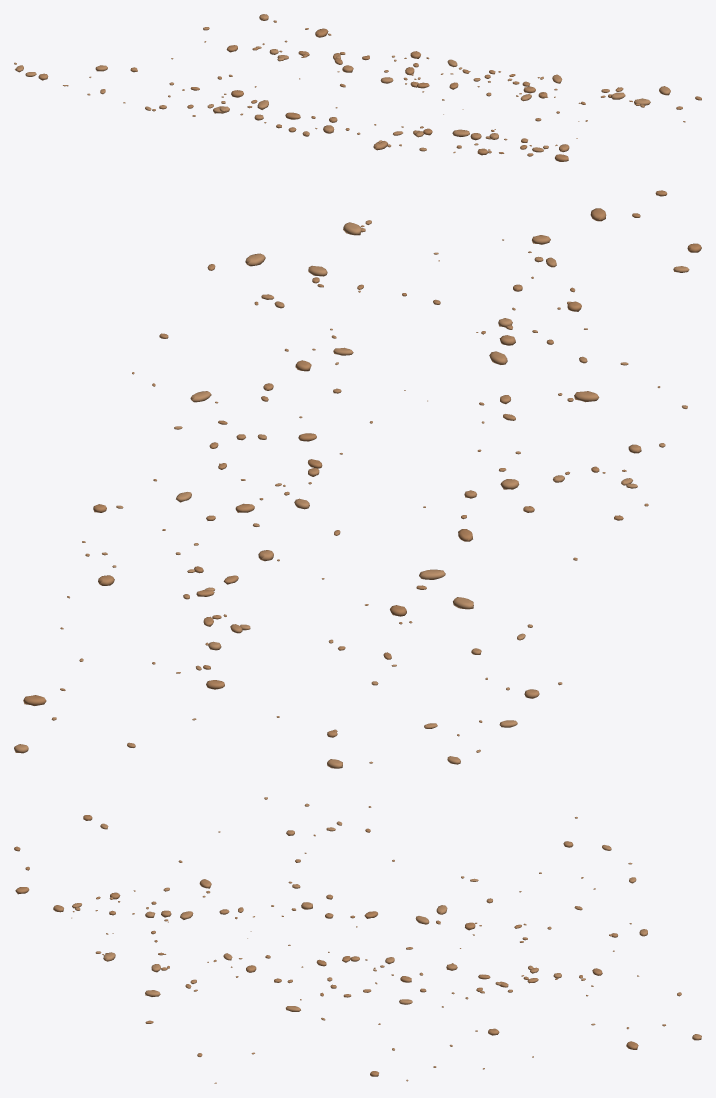
Rendered from terrain-094.glb.
The picture shows the model from 3 angles, top to bottom: view 1: azimuth 30°, elevation 25°; view 2: azimuth 150°, elevation 25°; view 3: azimuth 270°, elevation 25°; orthographic projection. The views are drawn at different scales.
Parts seen in each view (by area): view 1: terrain-094; view 2: terrain-094; view 3: terrain-094.
Boxes of the visible parts, x1,y1,x2,y2 form: terrain-094: [14, 14, 701, 161]; terrain-094: [14, 190, 701, 768]; terrain-094: [14, 797, 701, 1083].
Bounding box in the file's own units: 53.46 × 16.54 × 67.97.
